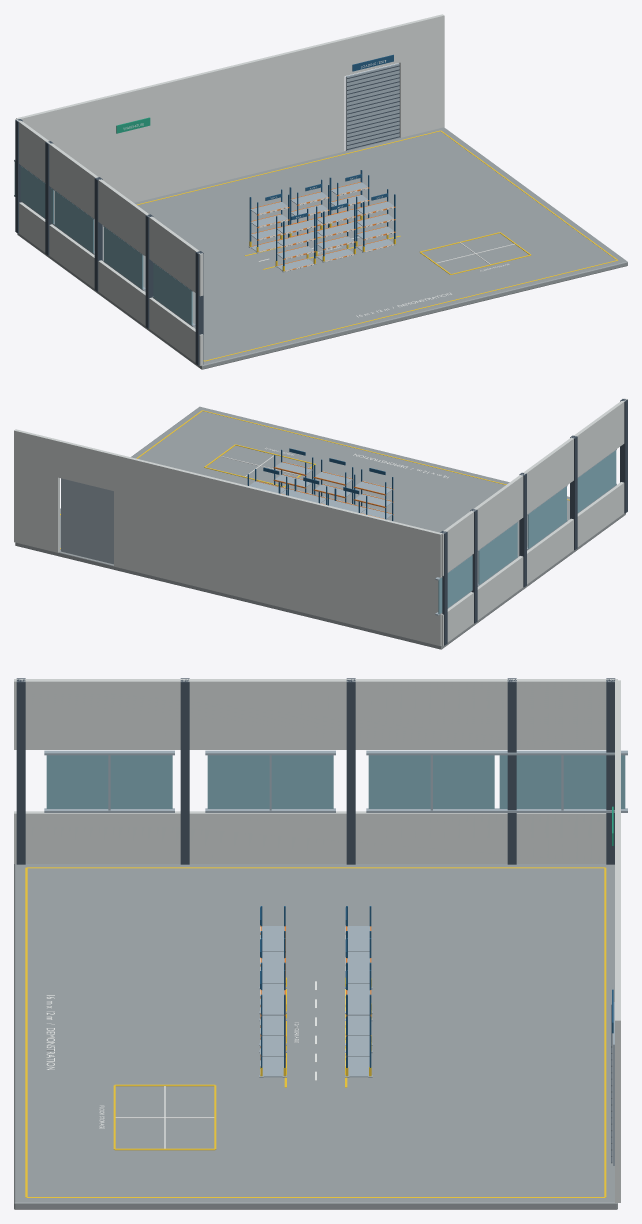
The model's file is warehouse.glb.
The picture shows the model from 3 angles, top to bottom: view 1: azimuth 30°, elevation 25°; view 2: azimuth 150°, elevation 25°; view 3: azimuth 270°, elevation 25°; orthographic projection. The views are drawn at different scales.
Visible parts, largest first — view 1: Warehouse concrete slab, Back wall, Left wall upper, Left wall sill, Back wall.001, Loading shutter, Door lintel, High window pane, High window pane.001, High window pane.002, High window pane.003, Left wall pilaster (+5 smaller); view 2: Back wall, Warehouse concrete slab, Left wall upper, Left wall sill, Back wall.001, Loading shutter, Door lintel, High window pane, High window pane.002, High window pane.001, High window pane.003, Left wall pilaster.001 (+5 smaller); view 3: Warehouse concrete slab, Left wall upper, Left wall sill, High window pane, High window pane.001, High window pane.002, High window pane.003, Left wall pilaster, Left wall pilaster.002, Left wall pilaster.001, Left wall pilaster.003, Left wall pilaster.004 (+8 smaller).
Boxes of the visible parts, x1=… form: Warehouse concrete slab: x1=17, y1=127, x2=627, y2=369; Back wall: x1=16, y1=38, x2=344, y2=221; Left wall upper: x1=15, y1=119, x2=203, y2=296; Left wall sill: x1=19, y1=202, x2=203, y2=365; Back wall.001: x1=399, y1=14, x2=444, y2=137; Loading shutter: x1=345, y1=63, x2=399, y2=150; Door lintel: x1=343, y1=25, x2=400, y2=75; High window pane: x1=153, y1=263, x2=192, y2=325; High window pane.001: x1=104, y1=227, x2=143, y2=289; High window pane.002: x1=54, y1=191, x2=93, y2=253; High window pane.003: x1=14, y1=161, x2=53, y2=223; Left wall pilaster: x1=195, y1=251, x2=203, y2=365; Back wall: x1=114, y1=453, x2=442, y2=646; Warehouse concrete slab: x1=15, y1=406, x2=625, y2=649; Left wall upper: x1=441, y1=398, x2=627, y2=575; Left wall sill: x1=441, y1=482, x2=624, y2=645; Back wall.001: x1=14, y1=429, x2=59, y2=552; Loading shutter: x1=61, y1=478, x2=113, y2=564; Door lintel: x1=58, y1=440, x2=115, y2=490; High window pane: x1=577, y1=450, x2=616, y2=512; High window pane.002: x1=478, y1=522, x2=517, y2=584; High window pane.001: x1=527, y1=486, x2=566, y2=548; High window pane.003: x1=438, y1=555, x2=472, y2=613; Left wall pilaster.001: x1=570, y1=435, x2=577, y2=550; Warehouse concrete slab: x1=14, y1=864, x2=617, y2=1209; Left wall upper: x1=14, y1=679, x2=617, y2=749; Left wall sill: x1=14, y1=811, x2=606, y2=863; High window pane: x1=46, y1=755, x2=172, y2=808; High window pane.001: x1=207, y1=755, x2=333, y2=808; High window pane.002: x1=368, y1=755, x2=494, y2=808; High window pane.003: x1=499, y1=755, x2=625, y2=808; Left wall pilaster: x1=16, y1=678, x2=25, y2=864; Left wall pilaster.002: x1=346, y1=678, x2=355, y2=864; Left wall pilaster.001: x1=180, y1=678, x2=189, y2=864; Left wall pilaster.003: x1=507, y1=678, x2=516, y2=864; Left wall pilaster.004: x1=606, y1=678, x2=615, y2=864.
Size of the model in its own units: 16.1 by 4.16 by 12.2.
